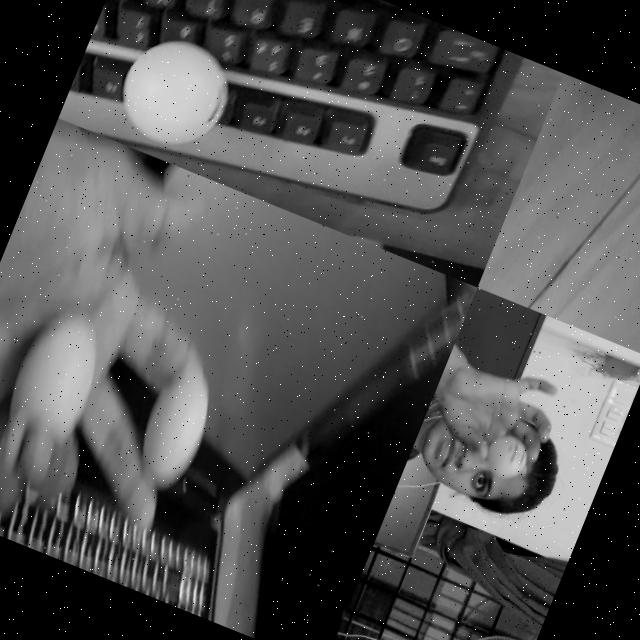ping-pong-ball: (102, 23, 240, 158), (0, 297, 116, 453), (125, 368, 220, 493), (481, 431, 531, 482)
